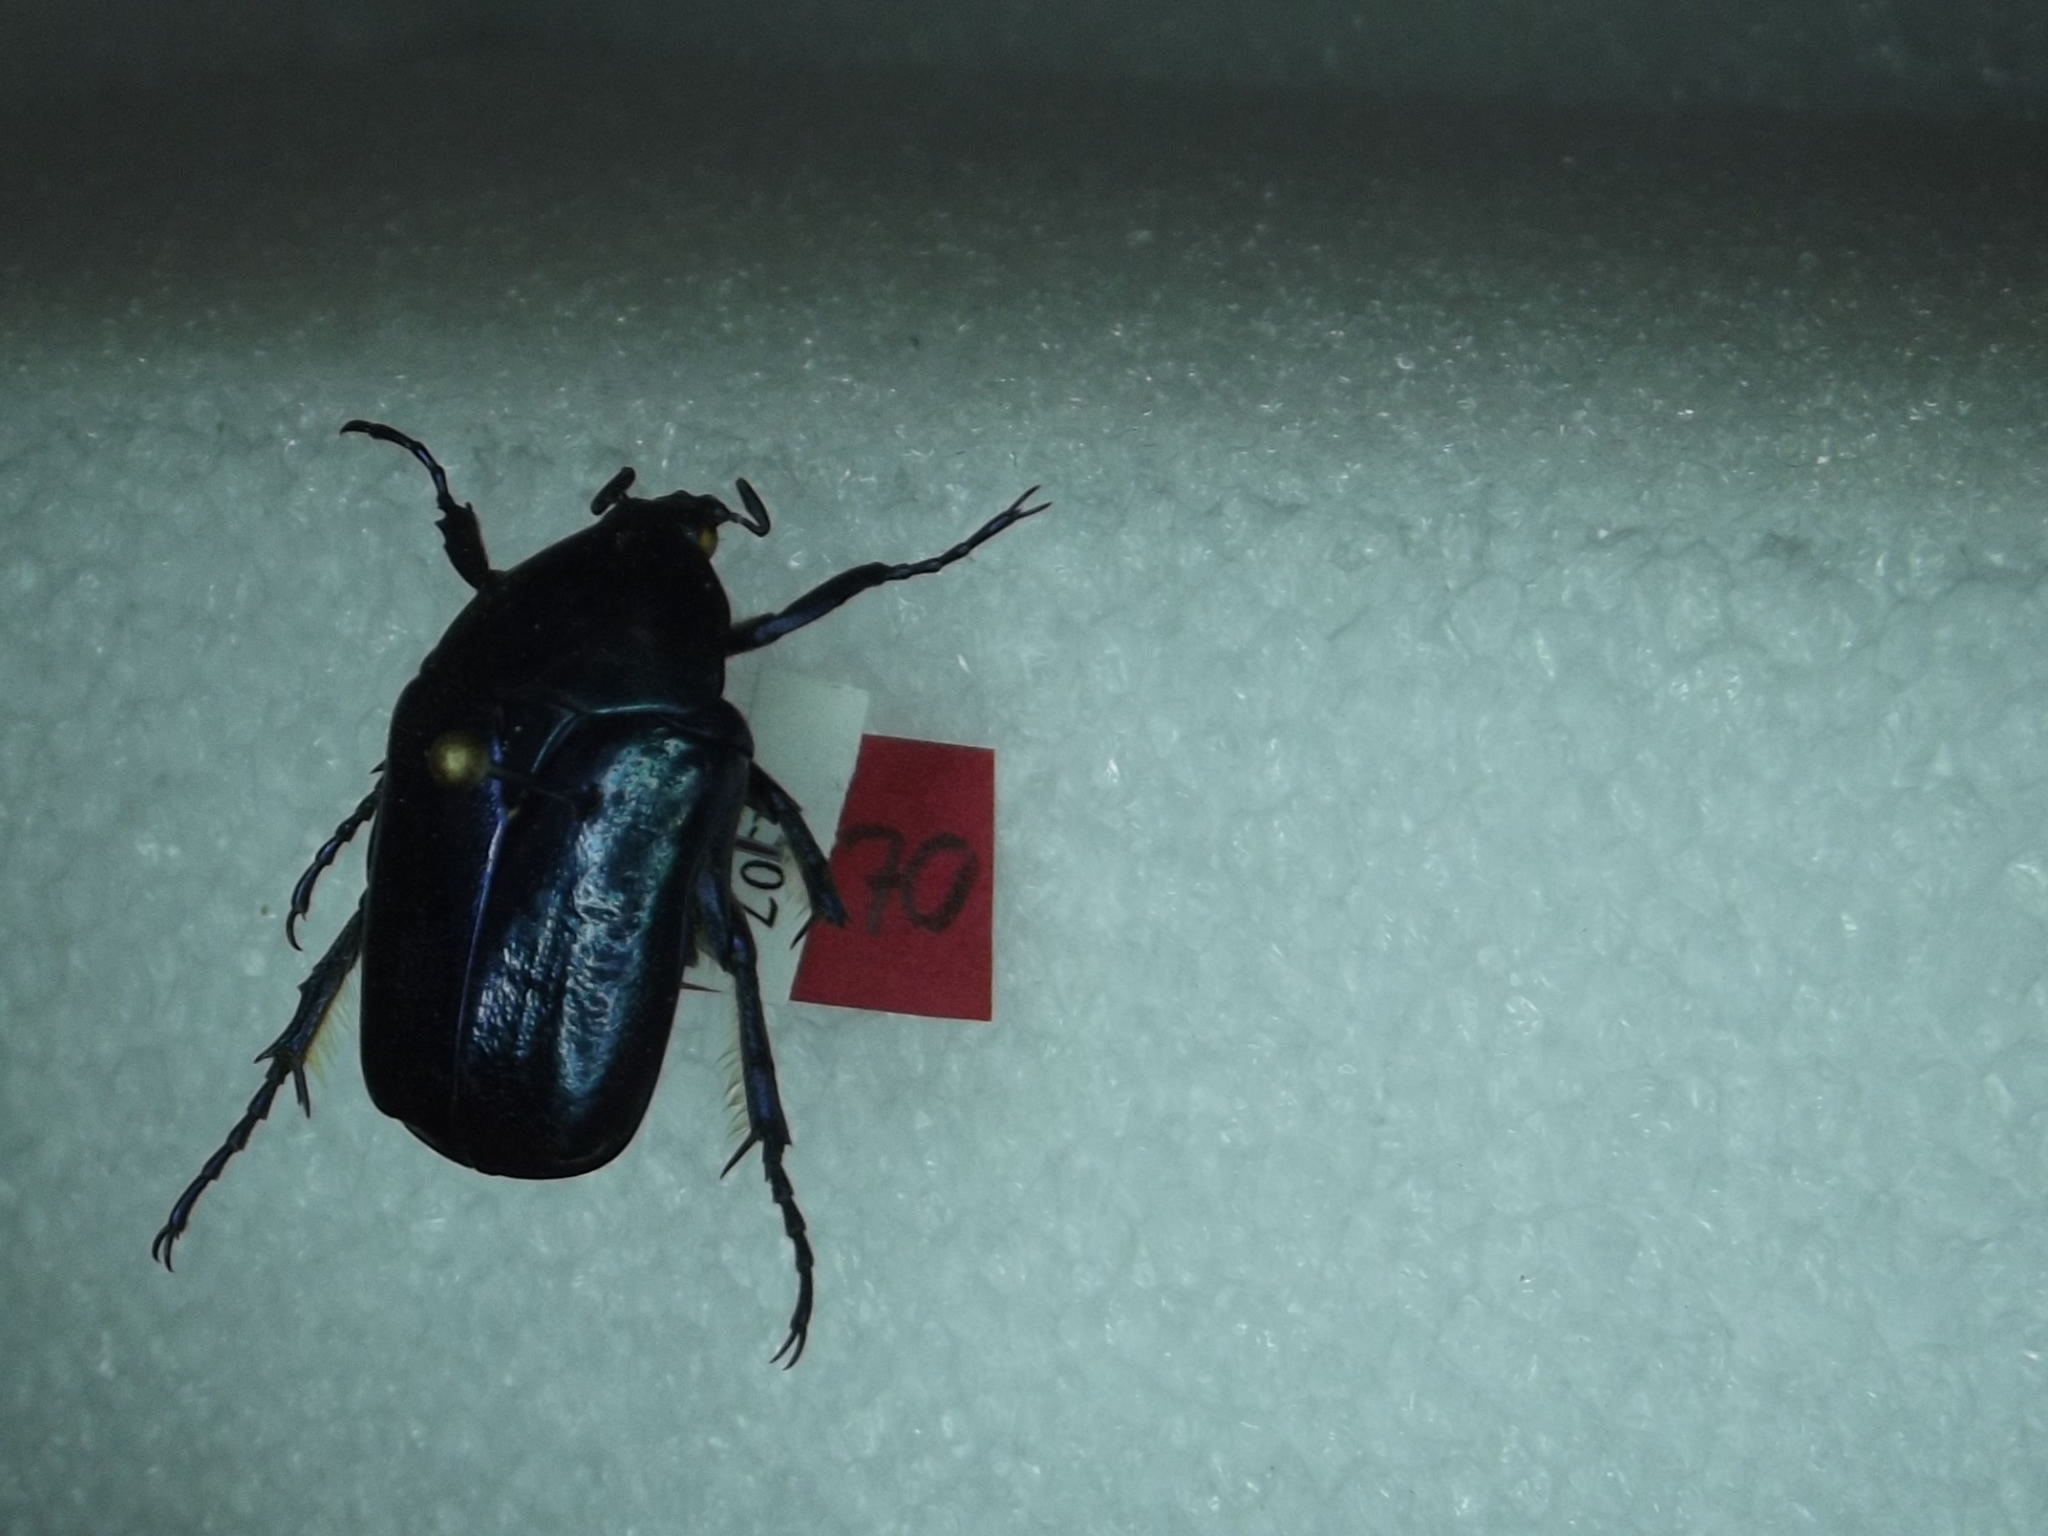Protaetia_besucheti: (127, 368, 1068, 1365)
